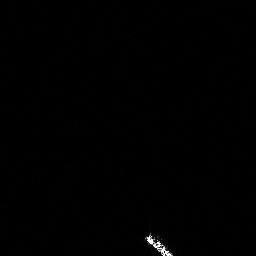ship: (144, 234, 175, 256)
